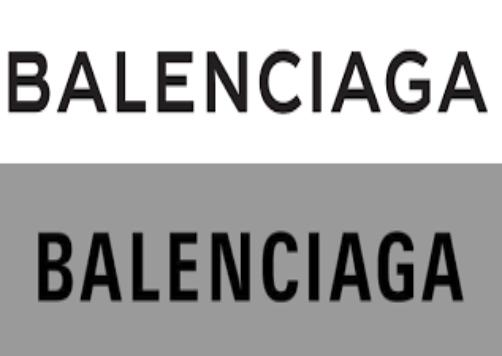BALENCIAGA: (33, 228, 465, 304), (4, 47, 492, 114)
